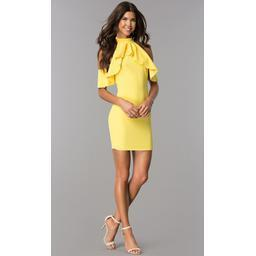dress: (98, 37, 158, 150)
